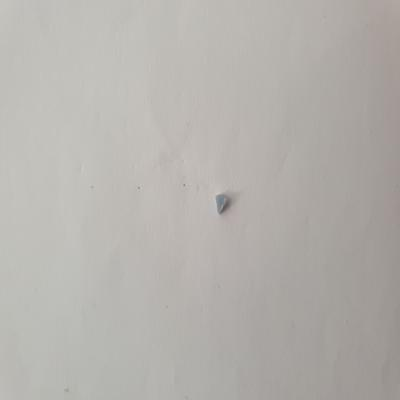plastic: (212, 190, 233, 216)
